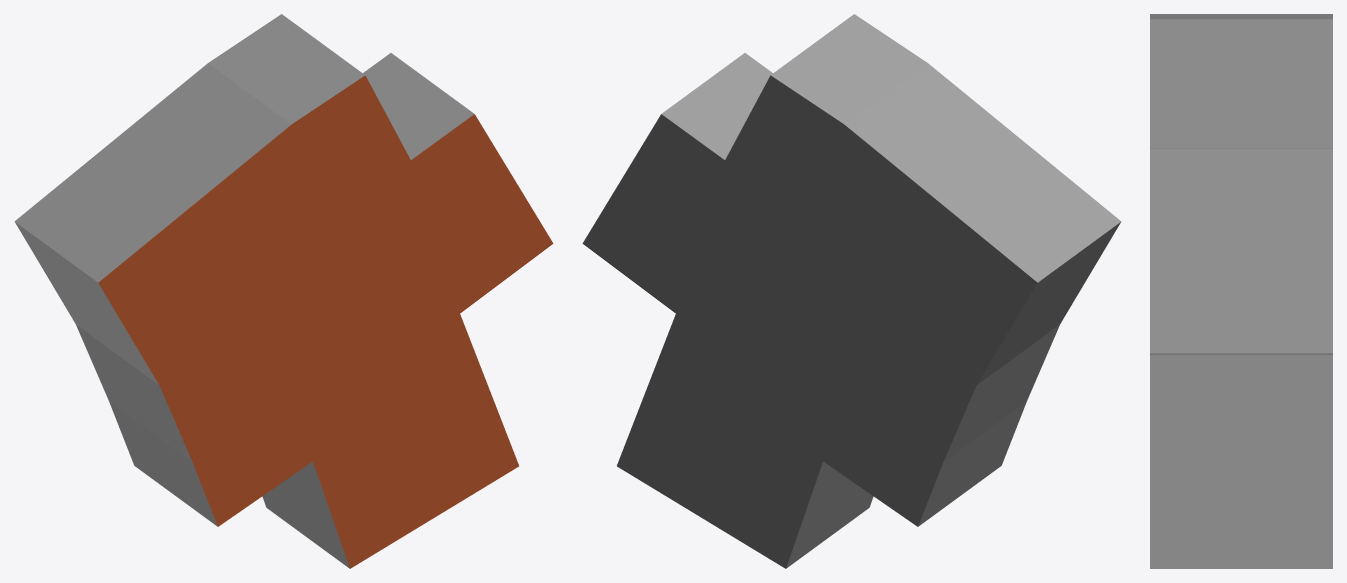
File: construction_6609_assumed_A_Casa_h6m.obj
3 renders of one model, left to right at view 1: azimuth 30°, elevation 25°; view 2: azimuth 150°, elevation 25°; view 3: azimuth 270°, elevation 25°, orthographic. The views are drawn at different scales.
Visible parts, largest first — view 1: construction_6609_assumed_A_Casa; view 2: construction_6609_assumed_A_Casa; view 3: construction_6609_assumed_A_Casa.
Part boxes in pixels (bbox=[...]): construction_6609_assumed_A_Casa: bbox=[14, 14, 553, 568]; construction_6609_assumed_A_Casa: bbox=[582, 14, 1121, 568]; construction_6609_assumed_A_Casa: bbox=[1150, 14, 1332, 568].
Bounding box in the file's own units: 18.83 × 19.37 × 6.
